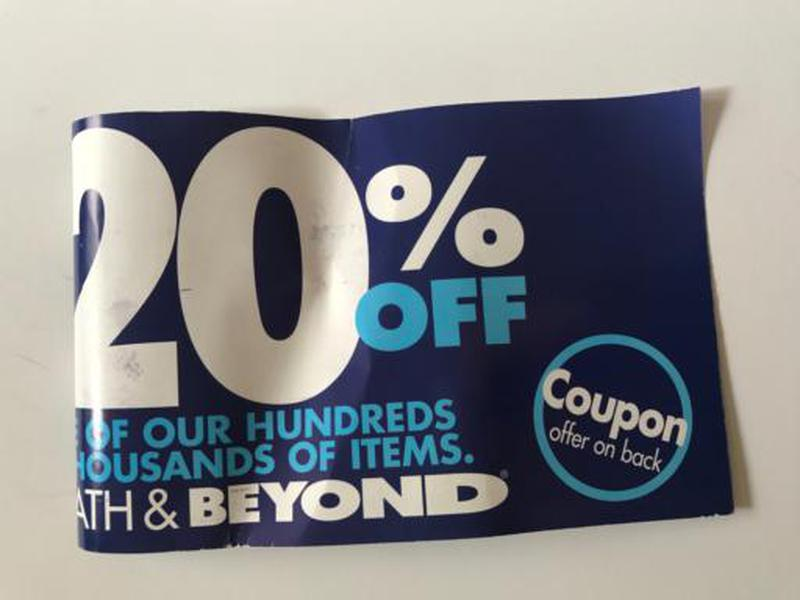paper: (66, 86, 742, 554)
